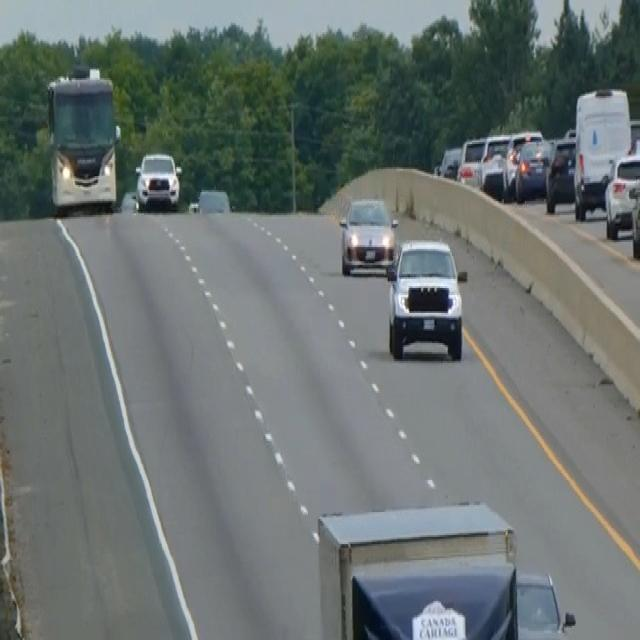car: (44, 61, 122, 215), (338, 194, 398, 276), (514, 567, 576, 638), (603, 149, 639, 240), (134, 150, 182, 212), (514, 137, 551, 203), (477, 132, 513, 198), (544, 137, 576, 211), (456, 135, 485, 185), (188, 185, 231, 215), (629, 169, 639, 261), (436, 144, 461, 180)
jeep: (384, 233, 467, 363)
